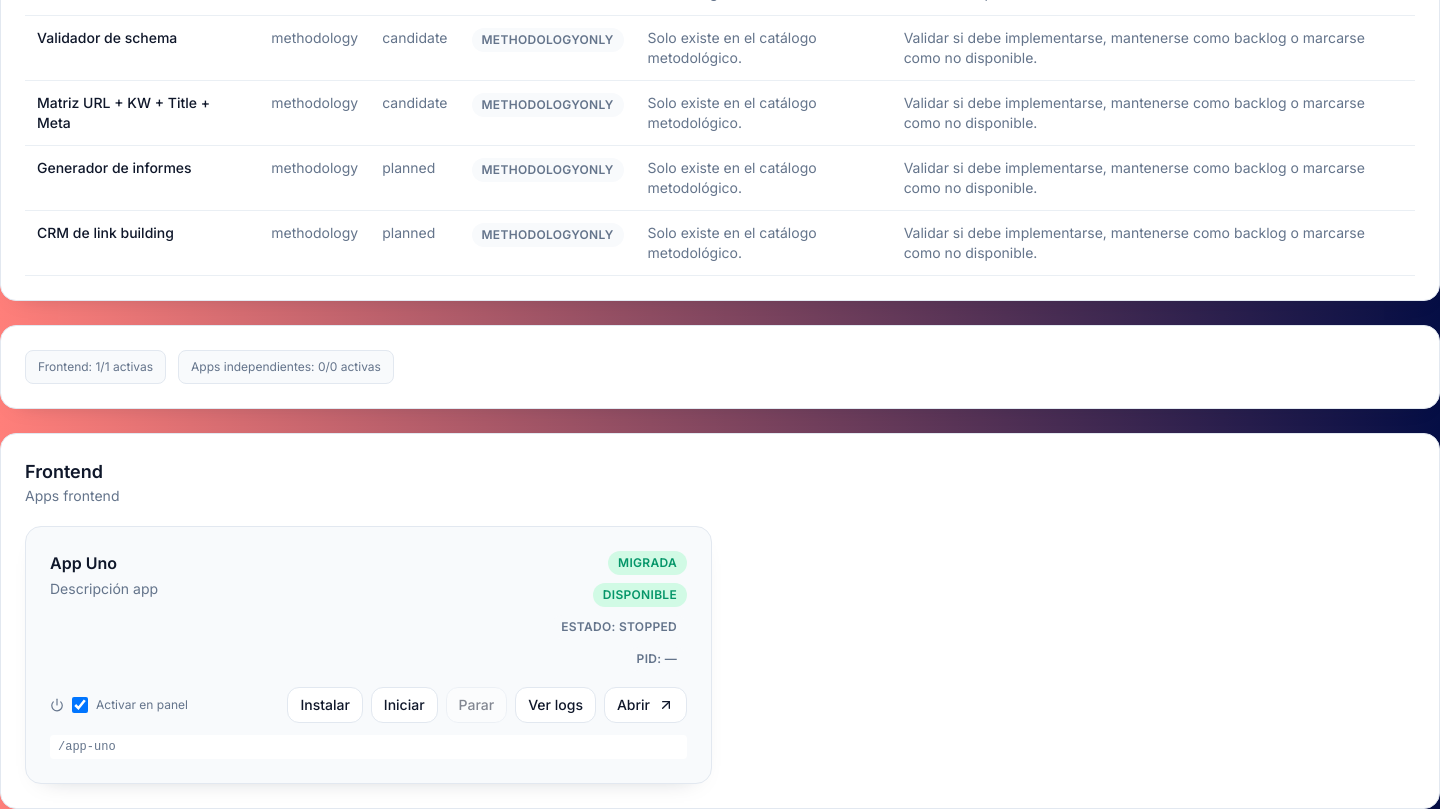
it: ToolsHub launcher panel › enables and disables action buttons based on runtime state
The image size is (1440, 809).
(page scrolled)
Expected: the button "Parar" is disabled, [446, 687, 507, 723]
Click the button "Iniciar".
click(404, 705)  # box [371, 687, 438, 723]
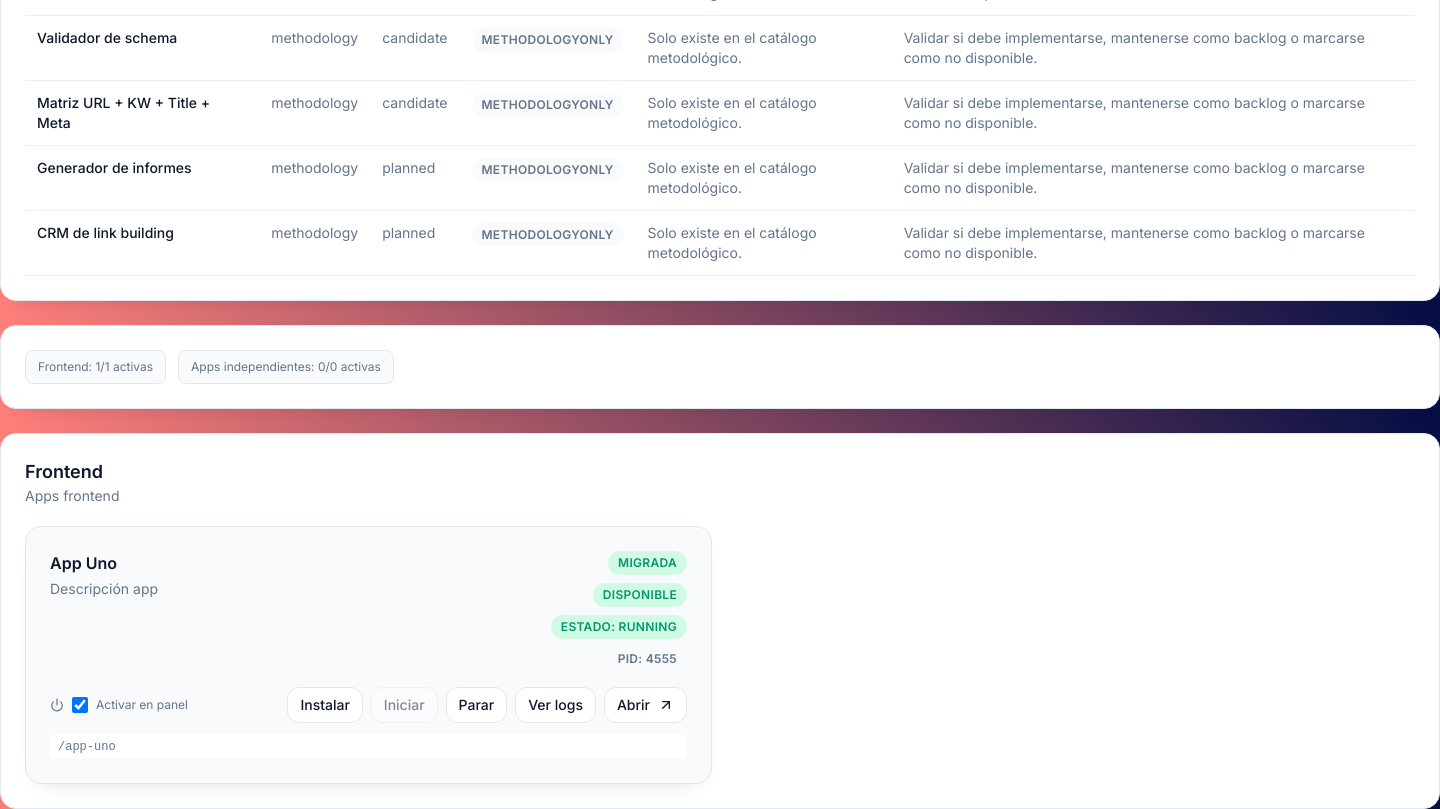
Now the text "estado: running" is shown, box [551, 615, 687, 639]
Now the text "PID: 4555" is shown, box [608, 647, 687, 671]
Now the button "Iniciar" is disabled, box [371, 687, 438, 723]
